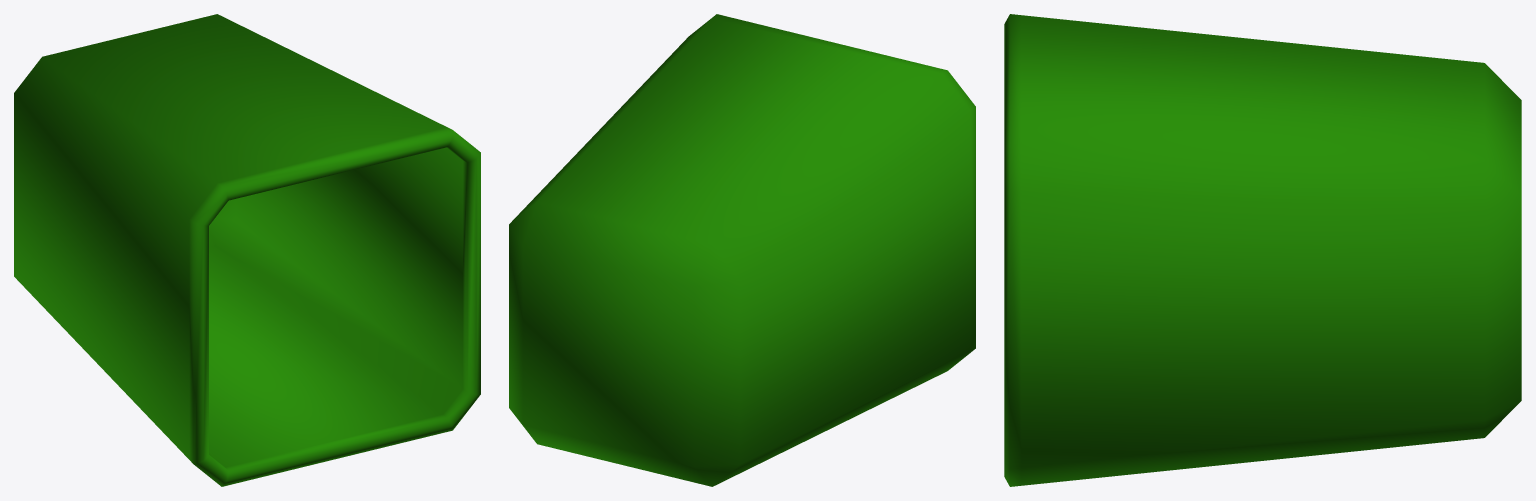
File: MeshCube_0.obj
3 views of the same model, side by side, from view 1: azimuth 30°, elevation 25°; view 2: azimuth 150°, elevation 25°; view 3: azimuth 270°, elevation 25° (orthographic). The views are drawn at different scales.
Visible parts, largest first — view 1: Cube; view 2: Cube; view 3: Cube.
Boxes of the visible parts, <box> form: Cube: <box>14,14,480,486</box>; Cube: <box>509,14,975,486</box>; Cube: <box>1004,14,1521,486</box>.
Bounding box in the file's own units: 0.3846 × 0.3846 × 0.5244.
